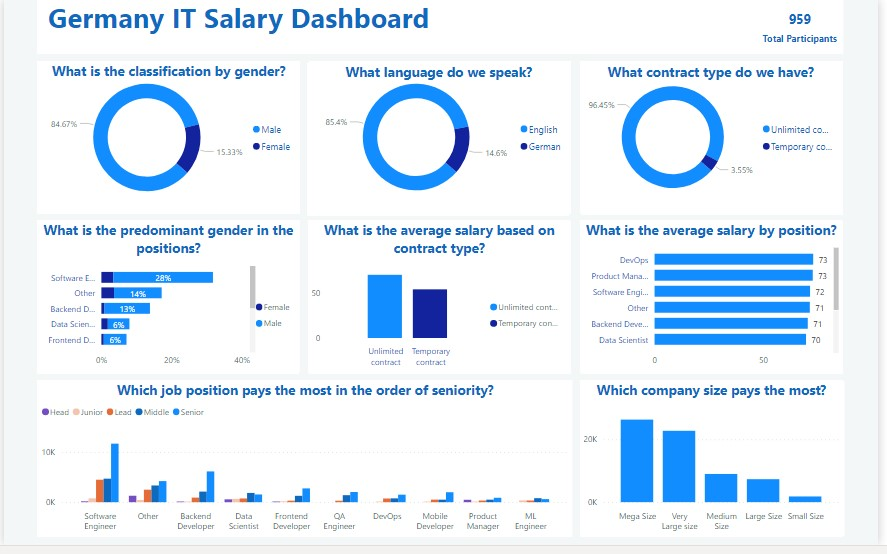

The dashboard page shown, as its layout file describes it:
{"tool":"powerbi","page":{"name":"Page 1","canvas":[1280,800],"ordinal":0},"visuals":[{"type":"shape","box":[49,0,1182,80.8],"z":0},{"type":"shape","box":[843.3,559.4,388,228.5],"z":1000},{"type":"shape","box":[48.7,557.7,782.8,230.1],"z":2000},{"type":"shape","box":[846.1,324.6,384.1,223.9],"z":3000},{"type":"shape","box":[846.1,90.7,384.1,223.9],"z":4000},{"type":"shape","box":[48.2,90.7,384.1,223.9],"z":5000},{"type":"shape","box":[447.2,90.7,384.1,223.9],"z":6000},{"type":"shape","box":[447.2,324.6,384.1,223.9],"z":7000},{"type":"shape","box":[48.2,324.6,384.1,223.9],"z":8000},{"type":"donutChart","fields":{"Y":["CountNonNull(IT Salaries Survey Cleaned Dataset - Germany 2020.gender)"],"Category":["IT Salaries Survey Cleaned Dataset - Germany 2020.gender"]},"box":[49.6,90.7,384.1,223.9],"z":9000},{"type":"textbox","title":"What is the classification by gender?  ","box":[49.6,90.7,382.7,32.6],"z":10000},{"type":"card","fields":{"Values":["Calculations.Total Participants"]},"box":[1100.3,0,131,80.6],"z":11000},{"type":"shape","box":[443.7,93.6,384.1,223.9],"z":12000},{"type":"donutChart","fields":{"Category":["IT Salaries Survey Cleaned Dataset - Germany 2020.language"],"Y":["CountNonNull(IT Salaries Survey Cleaned Dataset - Germany 2020.language)"]},"box":[447,90.7,383,223.4],"z":13000},{"type":"textbox","title":"What language do we speak?","box":[445,92.1,382.7,32.6],"z":14000},{"type":"shape","box":[844.7,92.1,384.1,223.9],"z":15000},{"type":"barChart","title":"What is the predominant gender in the positions?","fields":{"Category":["IT Salaries Survey Cleaned Dataset - Germany 2020.position"],"Y":["CountNonNull(IT Salaries Survey Cleaned Dataset - Germany 2020.gender)"],"Series":["IT Salaries Survey Cleaned Dataset - Germany 2020.gender"]},"box":[48.7,324.2,384.7,223.4],"z":16000},{"type":"columnChart","title":"Which company size pays the most?","fields":{"Y":["Sum(IT Salaries Survey Cleaned Dataset - Germany 2020.salary)"],"Category":["IT Salaries Survey Cleaned Dataset - Germany 2020.Company Size"]},"box":[843.3,557.7,384.7,230.1],"z":17000},{"type":"donutChart","fields":{"Category":["IT Salaries Survey Cleaned Dataset - Germany 2020.contract"],"Y":["CountNonNull(IT Salaries Survey Cleaned Dataset - Germany 2020.contract)"]},"box":[843.3,90.7,384.7,223.4],"z":18000},{"type":"textbox","title":"What contract type do we have?","box":[843.3,92.4,383,31.9],"z":19000},{"type":"textbox","title":"Germany IT Salary Dashboard","box":[48.7,0,591.3,80.6],"z":20000},{"type":"clusteredColumnChart","title":"Which job position pays the most in the order of seniority? ","fields":{"Category":["IT Salaries Survey Cleaned Dataset - Germany 2020.position","IT Salaries Survey Cleaned Dataset - Germany 2020.salary"],"Series":["IT Salaries Survey Cleaned Dataset - Germany 2020.seniority"],"Y":["Sum(IT Salaries Survey Cleaned Dataset - Germany 2020.salary)"]},"box":[50.4,557.7,782.8,230.1],"z":21000},{"type":"columnChart","title":"What is the average salary based on contract type?","fields":{"Y":["Calculations.Average Salary"],"Category":["IT Salaries Survey Cleaned Dataset - Germany 2020.contract"],"Series":["IT Salaries Survey Cleaned Dataset - Germany 2020.contract"]},"box":[445.7,324.4,384.3,223.6],"z":22000},{"type":"barChart","title":"What is the average salary by position?","fields":{"Y":["Calculations.Average Salary"],"Category":["IT Salaries Survey Cleaned Dataset - Germany 2020.position"]},"box":[844.1,324.4,384.3,223.6],"z":23000}]}

Visuals, with their boxes in screenshot pixels (x1, y1, x2, y2), scaled from the page's 1280x800 canvas onto the 887x554 screenshot:
shape: [34, 0, 853, 56]
shape: [584, 387, 853, 546]
shape: [34, 386, 576, 546]
shape: [586, 225, 852, 380]
shape: [586, 63, 852, 218]
shape: [33, 63, 300, 218]
shape: [310, 63, 576, 218]
shape: [310, 225, 576, 380]
shape: [33, 225, 300, 380]
donutChart - CountNonNull(IT Salaries Survey Cleaned Dataset - Germany 2020.gender) x IT Salaries Survey Cleaned Dataset - Germany 2020.gender: [34, 63, 301, 218]
"What is the classification by gender?  " textbox: [34, 63, 300, 85]
card - Calculations.Total Participants: [762, 0, 853, 56]
shape: [307, 65, 574, 220]
donutChart - IT Salaries Survey Cleaned Dataset - Germany 2020.language x CountNonNull(IT Salaries Survey Cleaned Dataset - Germany 2020.language): [310, 63, 575, 218]
"What language do we speak?" textbox: [308, 64, 574, 86]
shape: [585, 64, 852, 219]
"What is the predominant gender in the positions?" barChart: [34, 225, 300, 379]
"Which company size pays the most?" columnChart: [584, 386, 851, 546]
donutChart - IT Salaries Survey Cleaned Dataset - Germany 2020.contract x CountNonNull(IT Salaries Survey Cleaned Dataset - Germany 2020.contract): [584, 63, 851, 218]
"What contract type do we have?" textbox: [584, 64, 850, 86]
"Germany IT Salary Dashboard" textbox: [34, 0, 444, 56]
"Which job position pays the most in the order of seniority? " clusteredColumnChart: [35, 386, 577, 546]
"What is the average salary based on contract type?" columnChart: [309, 225, 575, 379]
"What is the average salary by position?" barChart: [585, 225, 851, 379]
